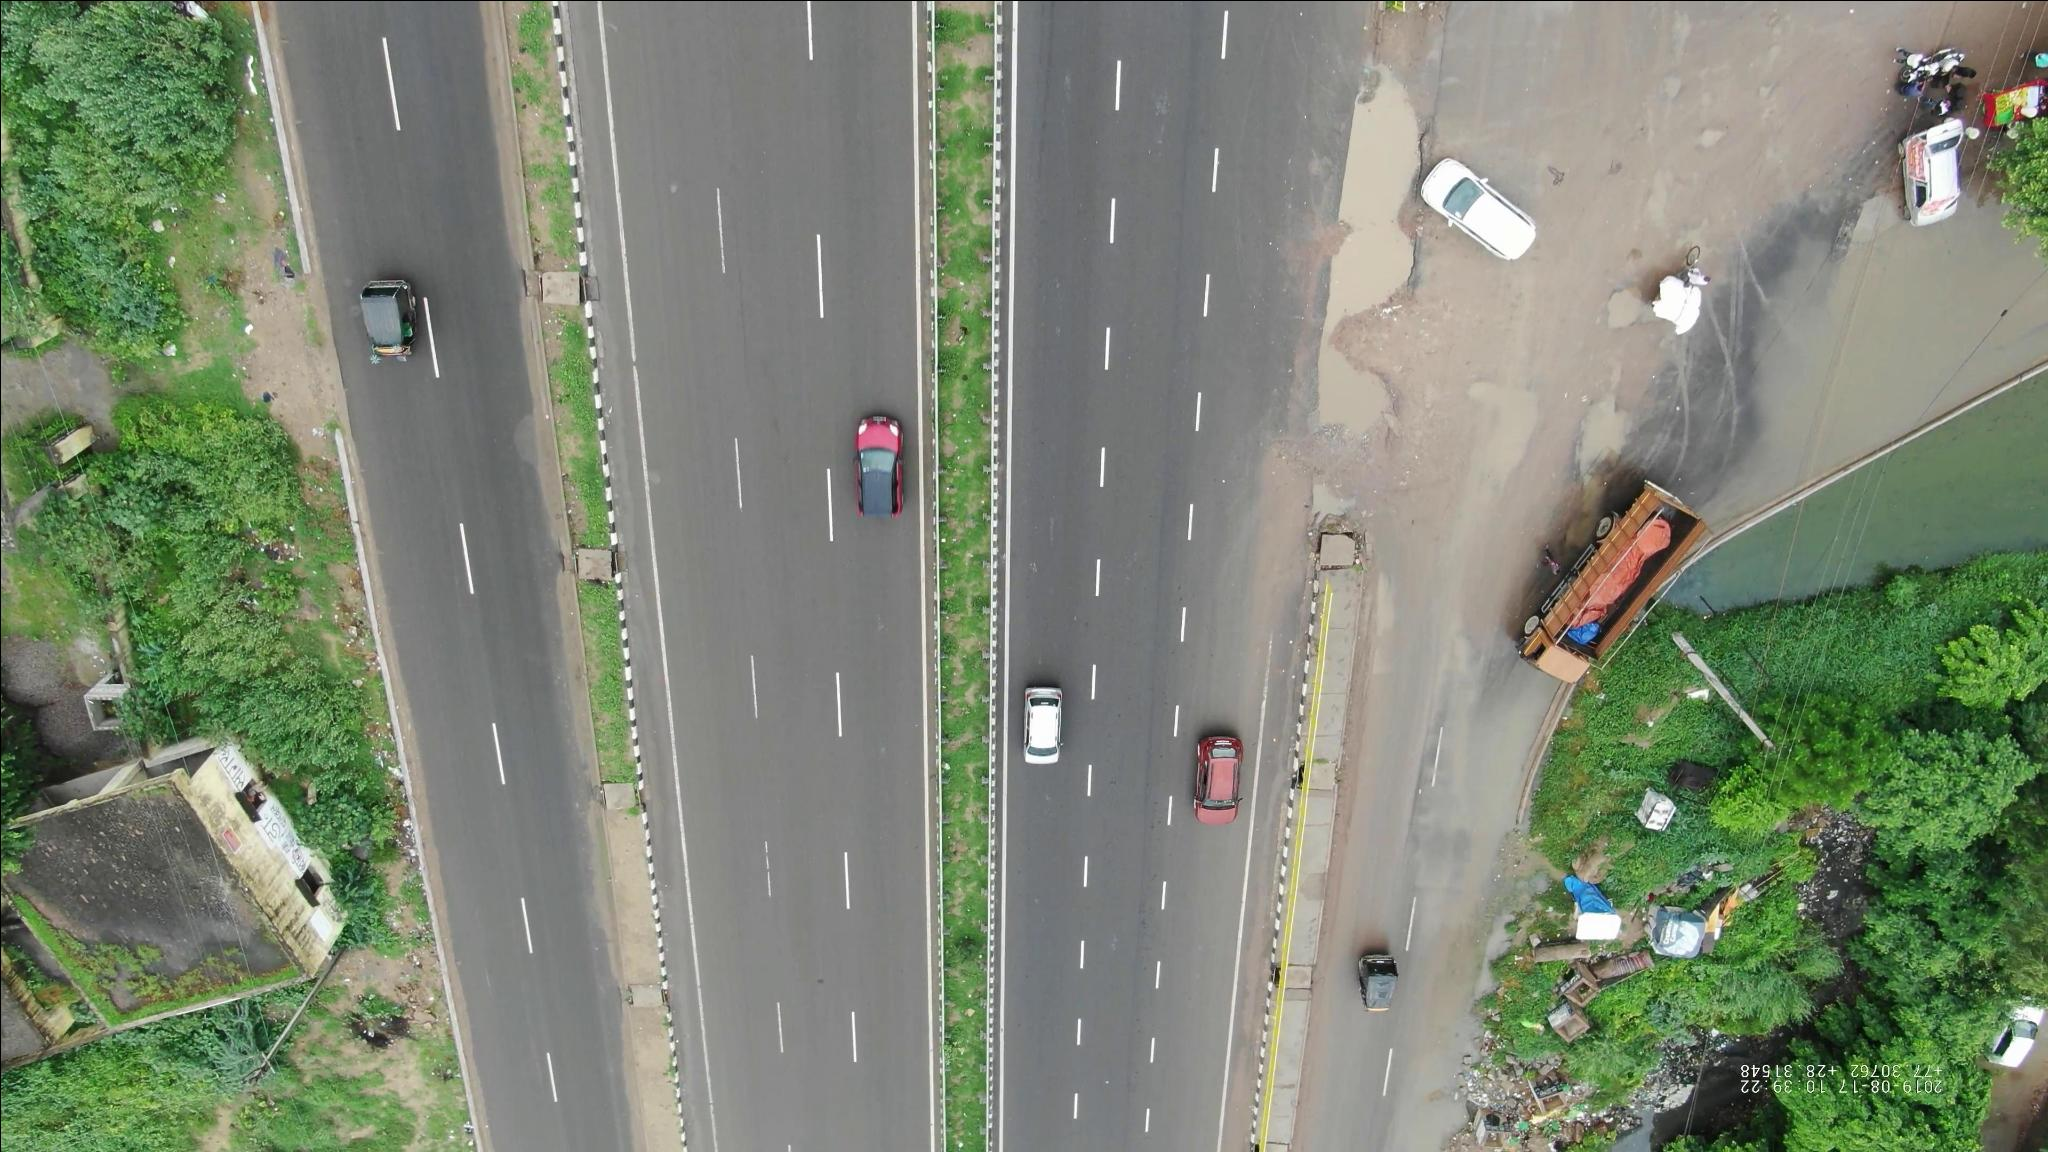Potholes: (1305, 60, 1453, 452), (1633, 35, 1748, 233), (1570, 262, 1665, 477)
Waterlogging: (1419, 692, 1553, 926)
